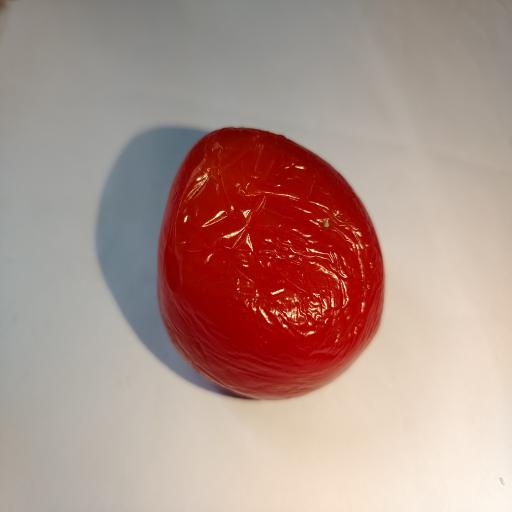spoiled: (158, 128, 383, 399)
